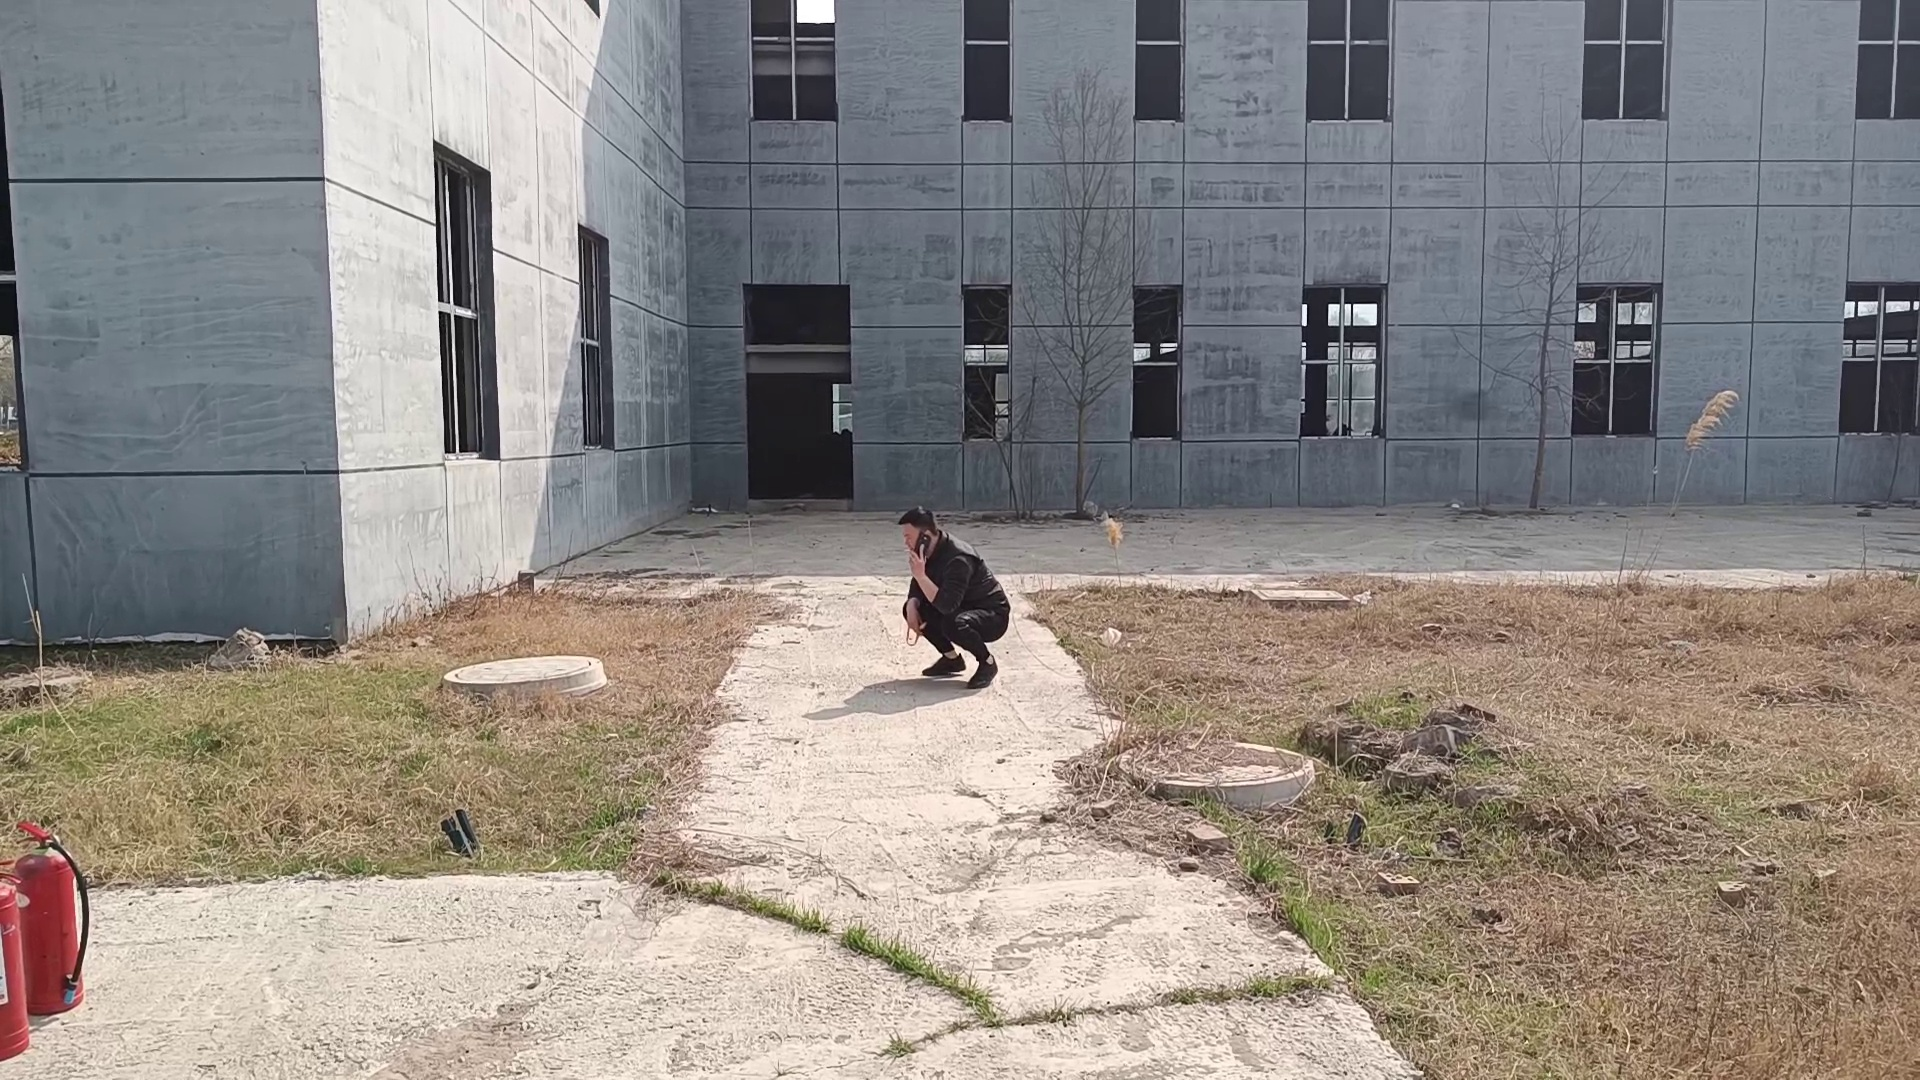phone: (895, 501, 948, 564)
